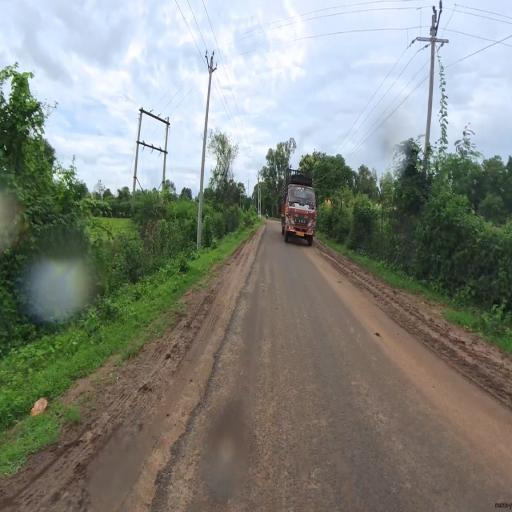edge_damage: (140, 359, 216, 502)
